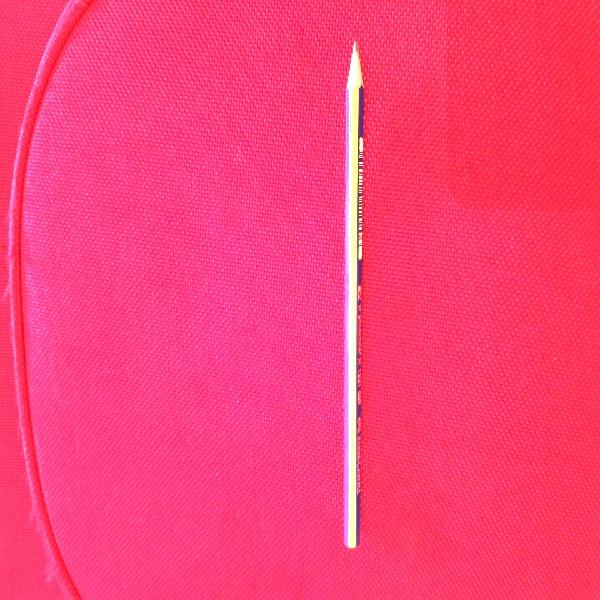pencil: (344, 43, 364, 548)
